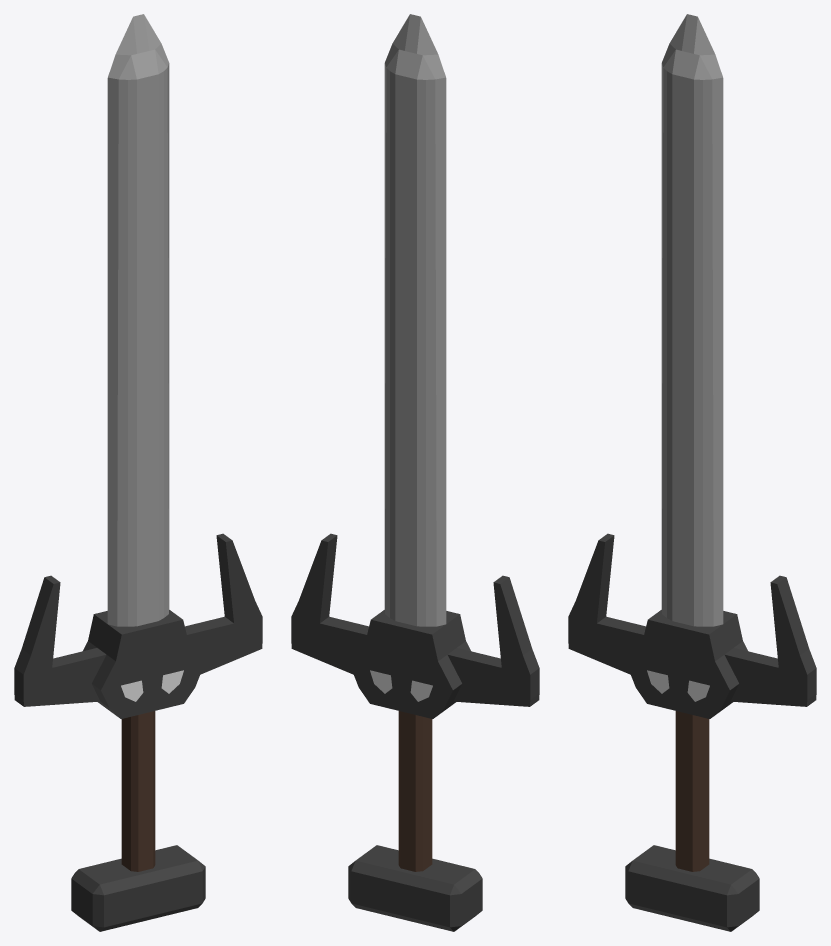
File: twin demigod sword.fbx
The picture shows the model from 3 angles, left to right: view 1: azimuth 30°, elevation 25°; view 2: azimuth 150°, elevation 25°; view 3: azimuth 330°, elevation 25°; orthographic projection.
Visible parts, largest first — view 1: Cube.011; view 2: Cube.011; view 3: Cube.011.
Part boxes in pixels (<box>): Cube.011: <box>14,14,262,931</box>; Cube.011: <box>291,14,539,931</box>; Cube.011: <box>568,14,816,931</box>.
Size of the model in its own units: 149 by 535 by 32.12.
